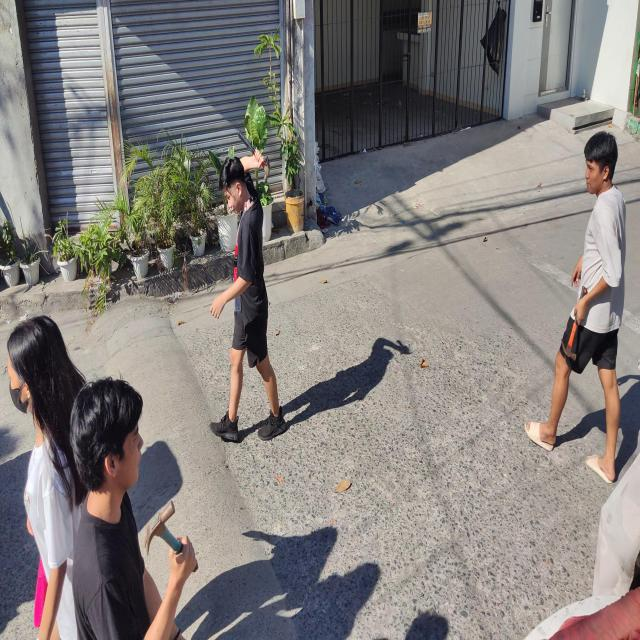hammer: (144, 500, 198, 572), (561, 286, 588, 362), (238, 130, 270, 181)
